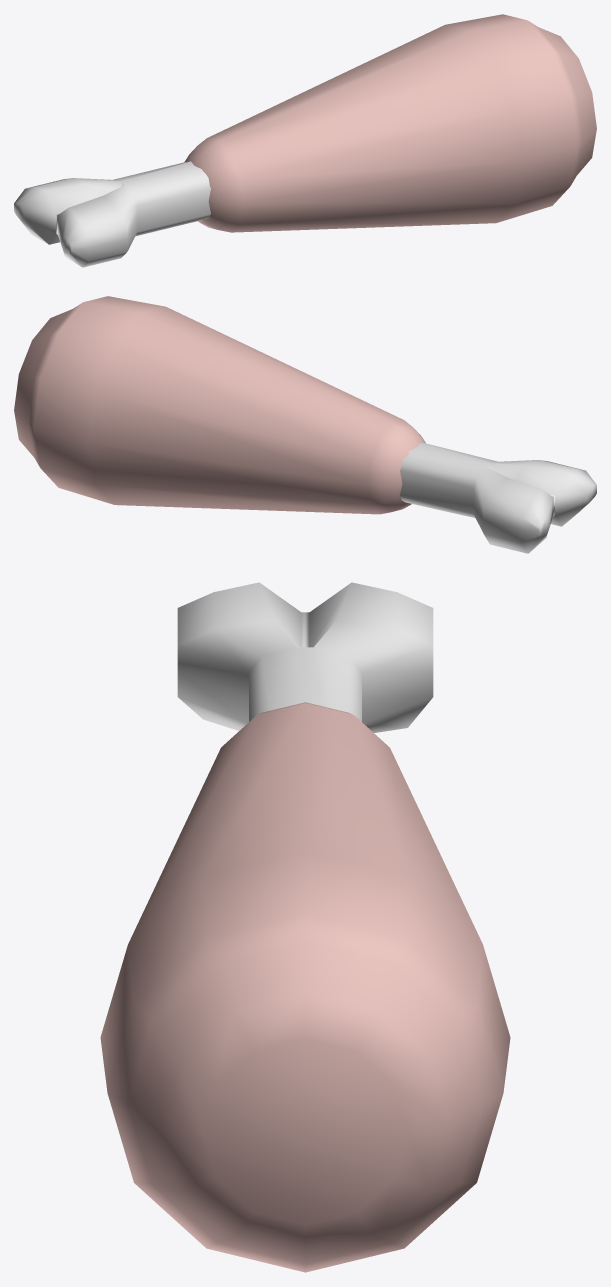
The model's file is SM_Drumstick.fbx.
3 renders of one model, top to bottom at view 1: azimuth 30°, elevation 25°; view 2: azimuth 150°, elevation 25°; view 3: azimuth 270°, elevation 25°, orthographic. The views are drawn at different scales.
Parts seen in each view (by area): view 1: pSphere1, pCube2; view 2: pSphere1, pCube2; view 3: pSphere1, pCube2.
Part boxes in pixels (box(x1,y1,x2,y2)): pSphere1: box(184, 14, 596, 232); pCube2: box(14, 161, 210, 267); pSphere1: box(14, 296, 425, 514); pCube2: box(400, 442, 596, 553); pSphere1: box(100, 702, 510, 1272); pCube2: box(177, 582, 433, 732).
Bounding box in the file's own units: 146 × 48.73 × 48.73.
